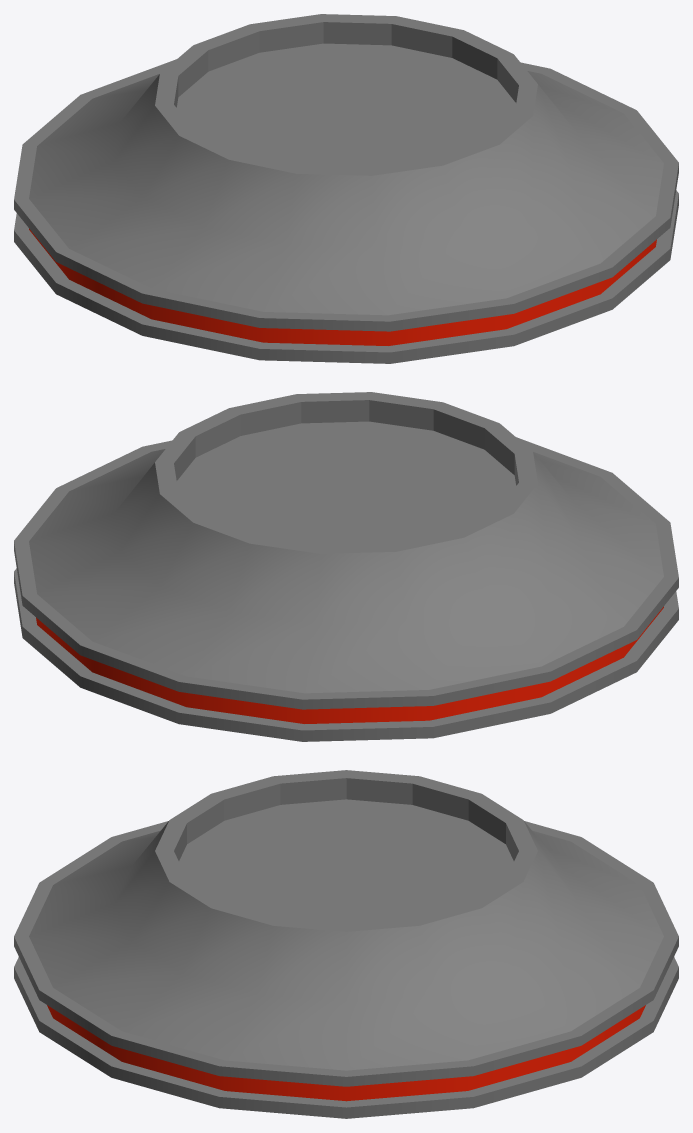
File: farm_1_partie_2.fbx
The picture shows the model from 3 angles, top to bottom: view 1: azimuth 30°, elevation 25°; view 2: azimuth 150°, elevation 25°; view 3: azimuth 270°, elevation 25°; orthographic projection.
Parts seen in each view (by area): view 1: Cylinder004; view 2: Cylinder004; view 3: Cylinder004.
Part boxes in pixels (box(x1,y1,x2,y2)): Cylinder004: box(14, 14, 678, 363); Cylinder004: box(14, 392, 678, 741); Cylinder004: box(14, 770, 678, 1118).
Size of the model in its own units: 397 by 83.93 by 397.
